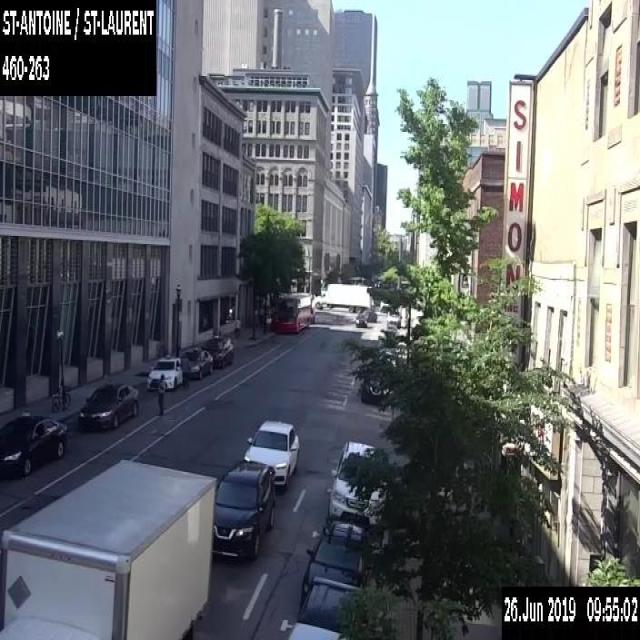bus: (273, 291, 315, 331)
pedestrian: (157, 373, 166, 416), (180, 352, 190, 388)
vehicle: (0, 457, 216, 638), (211, 461, 276, 559), (327, 438, 389, 528), (300, 518, 368, 600), (286, 575, 366, 639), (0, 412, 68, 477), (243, 419, 300, 489), (78, 381, 138, 428), (315, 282, 374, 312), (146, 353, 182, 389), (200, 333, 234, 368), (182, 346, 212, 378), (360, 378, 390, 402), (386, 310, 400, 327), (362, 308, 377, 322), (355, 312, 367, 326)
